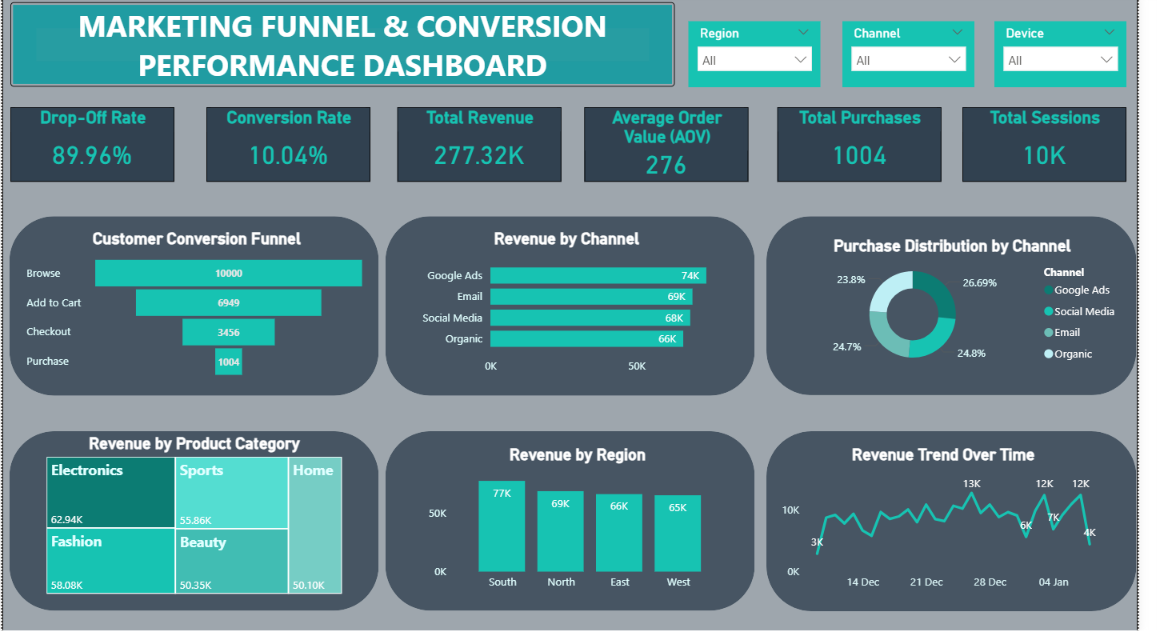

Layout of this report page (visuals, bound fields, positions):
{"tool":"powerbi","page":{"name":"Page 1","canvas":[1280,720],"ordinal":0},"visuals":[{"type":"card","title":"Drop-Off Rate","fields":{"Values":["Funnel_Analysis_Data.Drop-Off Rate"]},"box":[9.3,126.7,184.9,83.7],"z":0},{"type":"card","title":"Conversion Rate","fields":{"Values":["Funnel_Analysis_Data.Conversion Rate"]},"box":[230.2,126.7,184.9,83.7],"z":1000},{"type":"card","title":"Average Order Value (AOV)","fields":{"Values":["Funnel_Analysis_Data.AOV"]},"box":[655.8,126.7,184.9,83.7],"z":2000},{"type":"card","title":"Total Purchases","fields":{"Values":["Funnel_Analysis_Data.Total Purchases"]},"box":[873.3,126.7,184.9,83.7],"z":3000},{"type":"card","title":"Total Revenue","fields":{"Values":["Funnel_Analysis_Data.Total Revenue"]},"box":[445.4,126.7,184.9,83.7],"z":4000},{"type":"card","title":"Total Sessions","fields":{"Values":["Funnel_Analysis_Data.Total Sessions"]},"box":[1082.6,126.7,184.9,83.7],"z":5000},{"type":"shape","box":[9.3,8.1,748.8,95.3],"z":6000},{"type":"shape","box":[8.1,248.8,416.3,202.3],"z":7000},{"type":"funnel","title":"Customer Conversion Funnel","fields":{"Category":["Funnel_Analysis_Data.Event"],"Y":["Count(Funnel_Analysis_Data.Session ID)"]},"box":[22.1,264,393,172.1],"z":8000},{"type":"shape","box":[431.4,248.8,416.3,202.3],"z":9000},{"type":"shape","box":[431.4,491.9,416.3,202.3],"z":10000},{"type":"shape","box":[8.1,491.9,416.3,202.3],"z":11000},{"type":"clusteredBarChart","title":"Revenue by Channel","fields":{"Category":["Funnel_Analysis_Data.Channel"],"Y":["Sum(Funnel_Analysis_Data.Revenue)"]},"box":[462.8,264,345.3,172.1],"z":12000},{"type":"treemap","title":"Revenue by Product Category","fields":{"Group":["Funnel_Analysis_Data.Product Category"],"Values":["Sum(Funnel_Analysis_Data.Revenue)"]},"box":[45.1,494.8,342.6,184.8],"z":13000},{"type":"clusteredColumnChart","title":"Revenue by Region","fields":{"Y":["Sum(Funnel_Analysis_Data.Revenue)"],"Category":["Funnel_Analysis_Data.Region"]},"box":[475.6,507,345.3,172.1],"z":14000},{"type":"shape","box":[861.1,249.1,417,201.8],"z":15000},{"type":"shape","box":[861.1,491.4,417,202.9],"z":16000},{"type":"donutChart","title":"Purchase Distribution by Channel","fields":{"Y":["Funnel_Analysis_Data.Total Purchases"],"Category":["Funnel_Analysis_Data.Channel"]},"box":[873.3,272.1,394.2,155.8],"z":17000},{"type":"lineChart","title":"Revenue Trend Over Time","fields":{"Y":["Sum(Funnel_Analysis_Data.Revenue)"],"Category":["Funnel_Analysis_Data.Event Time.Variation.Date Hierarchy.Year","Funnel_Analysis_Data.Event Time.Variation.Date Hierarchy.Quarter","Funnel_Analysis_Data.Event Time.Variation.Date Hierarchy.Month","Funnel_Analysis_Data.Event Time.Variation.Date Hierarchy.Day"]},"box":[873.5,507.2,374.2,172.4],"z":18000},{"type":"slicer","fields":{"Values":["Funnel_Analysis_Data.Region"]},"box":[773.3,29.1,148.8,74.4],"z":19000},{"type":"slicer","fields":{"Values":["Funnel_Analysis_Data.Channel"]},"box":[946.5,29.1,148.8,74.4],"z":20000},{"type":"slicer","fields":{"Values":["Funnel_Analysis_Data.Device"]},"box":[1118.6,29.1,148.8,74.4],"z":21000}]}

Visuals, with their boxes in screenshot pixels (x1, y1, x2, y2):
"Drop-Off Rate" card: bbox=(2, 104, 168, 179)
"Conversion Rate" card: bbox=(200, 104, 365, 179)
"Average Order Value (AOV)" card: bbox=(580, 104, 746, 179)
"Total Purchases" card: bbox=(775, 104, 940, 179)
"Total Revenue" card: bbox=(392, 104, 558, 179)
"Total Sessions" card: bbox=(962, 104, 1127, 179)
shape: bbox=(2, 0, 672, 83)
shape: bbox=(1, 213, 373, 394)
"Customer Conversion Funnel" funnel: bbox=(14, 227, 365, 381)
shape: bbox=(380, 213, 752, 394)
shape: bbox=(380, 431, 752, 612)
shape: bbox=(1, 431, 373, 612)
"Revenue by Channel" clusteredBarChart: bbox=(408, 227, 717, 381)
"Revenue by Product Category" treemap: bbox=(34, 433, 341, 599)
"Revenue by Region" clusteredColumnChart: bbox=(419, 444, 728, 598)
shape: bbox=(764, 214, 1137, 394)
shape: bbox=(764, 430, 1137, 612)
"Purchase Distribution by Channel" donutChart: bbox=(775, 234, 1127, 374)
"Revenue Trend Over Time" lineChart: bbox=(775, 445, 1110, 599)
slicer - Funnel_Analysis_Data.Region: bbox=(685, 17, 819, 84)
slicer - Funnel_Analysis_Data.Channel: bbox=(840, 17, 973, 84)
slicer - Funnel_Analysis_Data.Device: bbox=(994, 17, 1127, 84)
